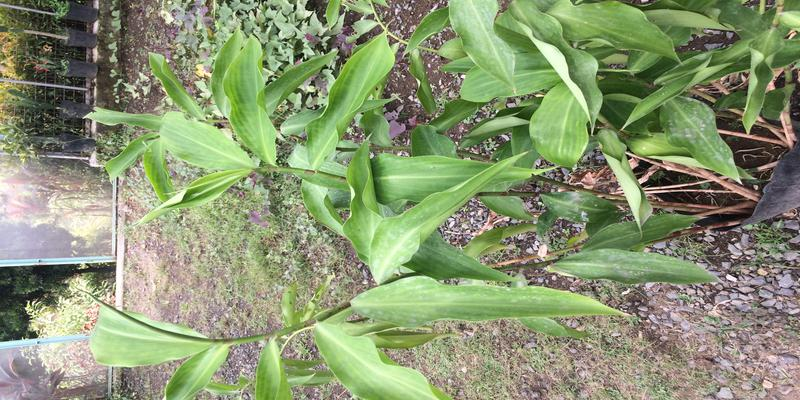Insulin: (144, 93, 712, 350)
